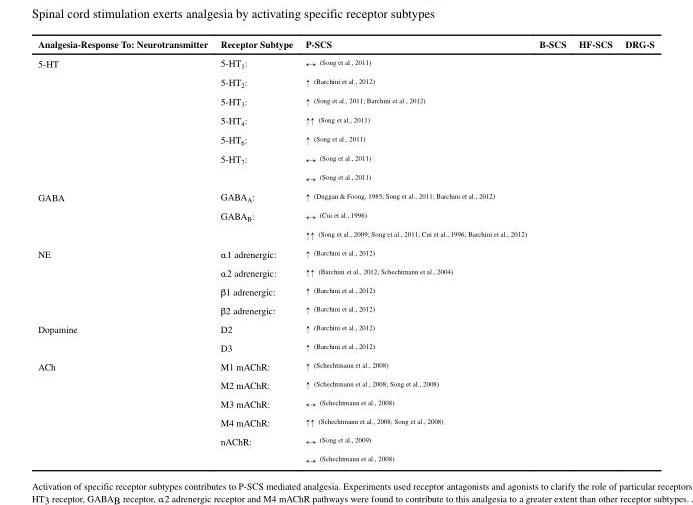table: (38, 37, 654, 466)
table column: (299, 37, 533, 466), (38, 37, 214, 466), (214, 37, 299, 466), (572, 37, 619, 466), (533, 37, 572, 466), (619, 37, 654, 466)
table column header: (38, 37, 654, 53)
table row: (38, 129, 654, 149), (38, 53, 654, 72), (38, 72, 654, 91), (38, 91, 654, 110), (38, 110, 654, 129), (38, 149, 654, 168), (38, 168, 654, 187), (38, 187, 654, 206), (38, 206, 654, 225), (38, 225, 654, 244), (38, 244, 654, 263), (38, 281, 654, 300), (38, 300, 654, 319), (38, 337, 654, 356), (38, 356, 654, 375), (38, 375, 654, 394), (38, 412, 654, 431), (38, 431, 654, 450), (38, 263, 654, 281), (38, 319, 654, 337), (38, 394, 654, 412), (38, 37, 654, 53), (38, 450, 654, 466)
table spanning cell: (38, 53, 214, 187), (38, 356, 214, 466), (38, 244, 214, 319), (38, 187, 214, 244), (38, 319, 214, 356)
